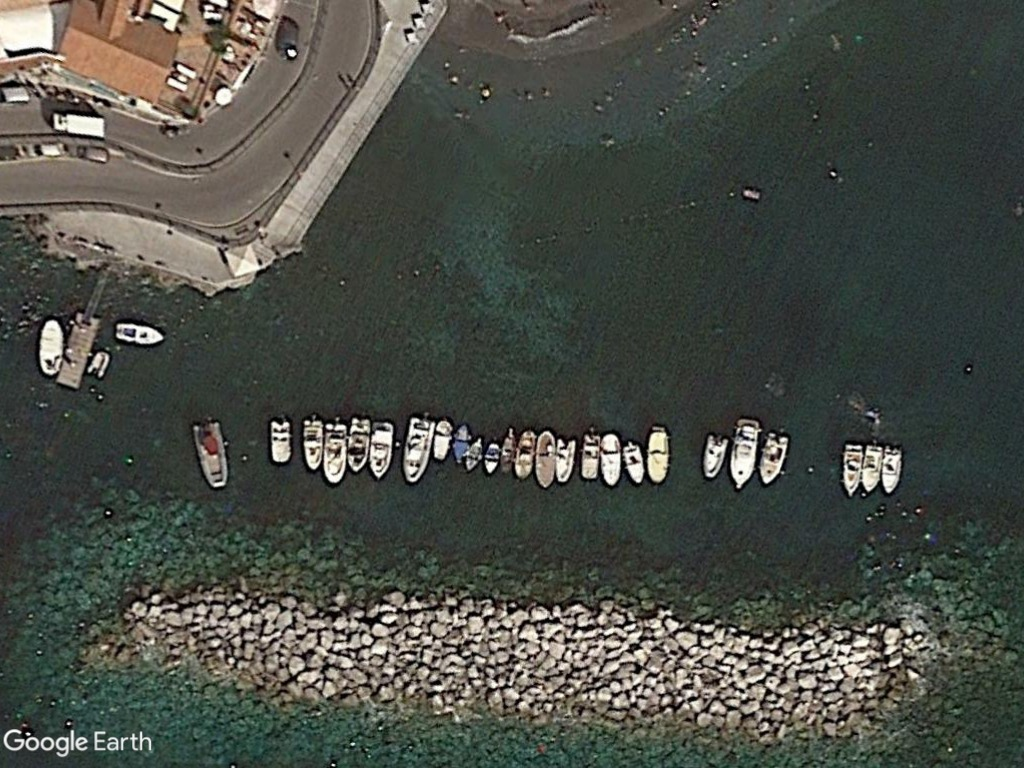boat: (189, 415, 230, 491), (399, 409, 437, 485), (725, 415, 763, 491), (755, 428, 789, 488), (37, 315, 67, 378), (344, 414, 373, 478), (644, 421, 673, 485), (367, 417, 395, 483), (322, 415, 346, 485), (699, 431, 731, 483), (533, 425, 557, 493), (877, 442, 905, 497), (111, 320, 168, 347), (551, 432, 578, 488), (598, 427, 622, 490), (266, 413, 294, 466), (511, 425, 537, 482), (840, 440, 864, 501), (858, 442, 885, 496), (299, 414, 323, 472), (617, 439, 646, 487)
truck: (50, 110, 110, 141)
